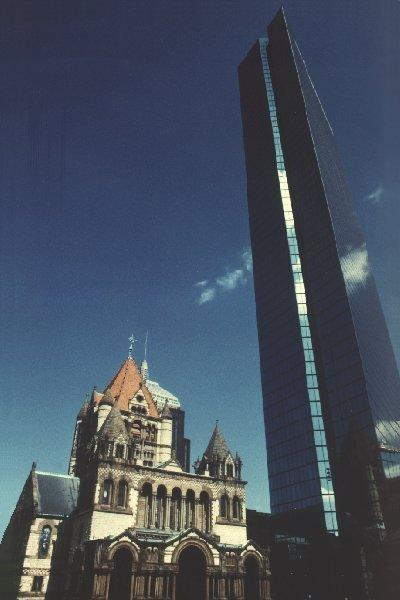building: (239, 5, 400, 600), (0, 332, 272, 600)
